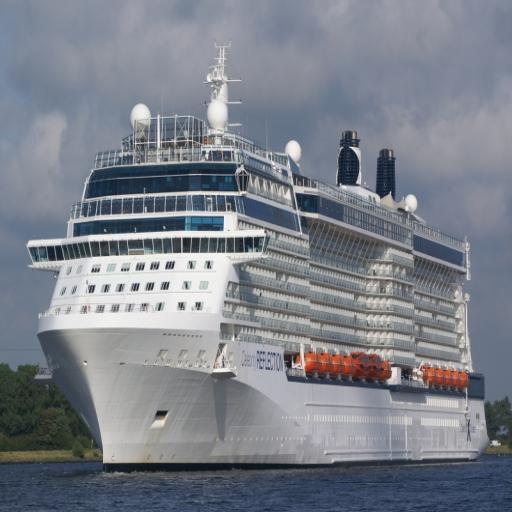cruises: (23, 73, 495, 478)
